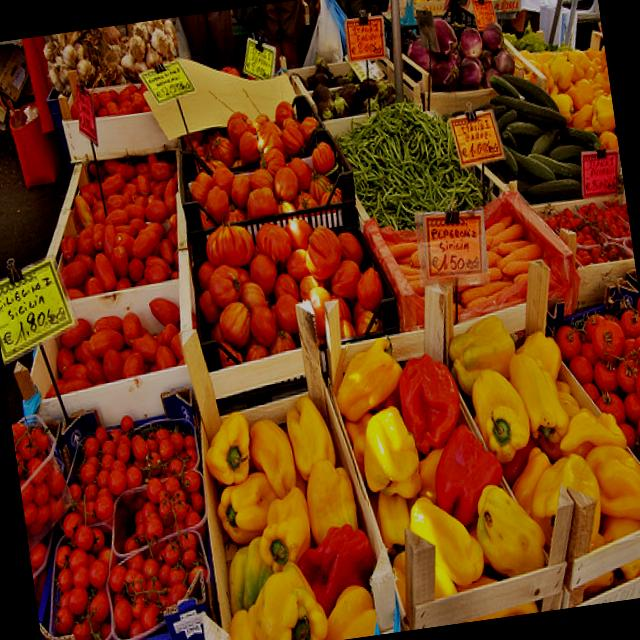Vehicle: (400, 0, 601, 50)
